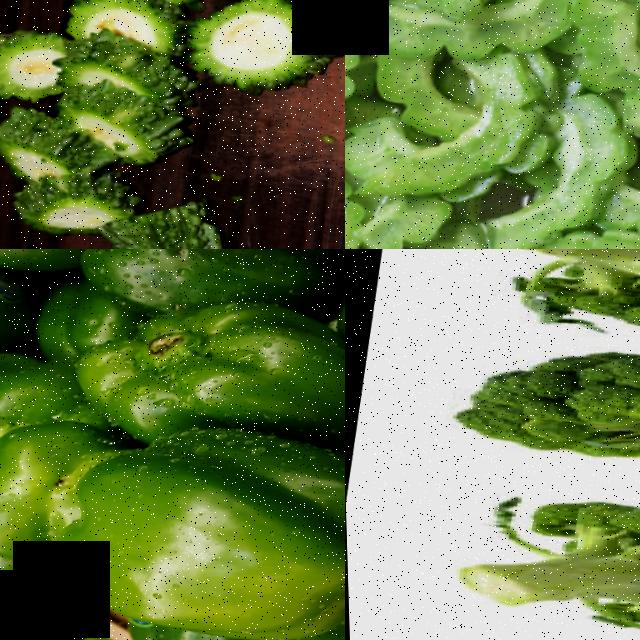bell pepper: (99, 399, 345, 640), (84, 282, 345, 455), (89, 249, 345, 344), (0, 402, 104, 573)
bitter gourd: (345, 0, 640, 249), (179, 0, 345, 129), (98, 188, 282, 249), (65, 34, 187, 108), (0, 107, 97, 192), (62, 0, 186, 55), (0, 23, 59, 106)
broccoli: (361, 277, 640, 562), (359, 433, 640, 640), (438, 249, 640, 392)
